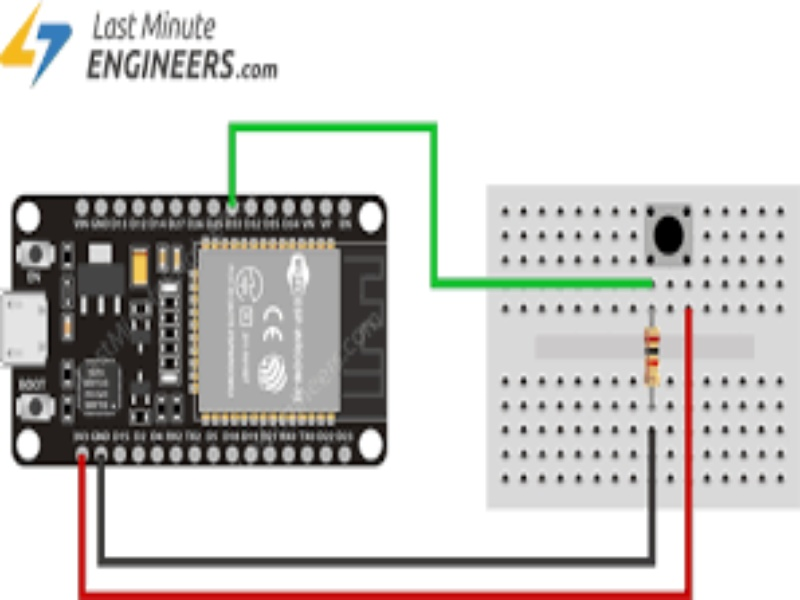esp32: (3, 186, 426, 485)
